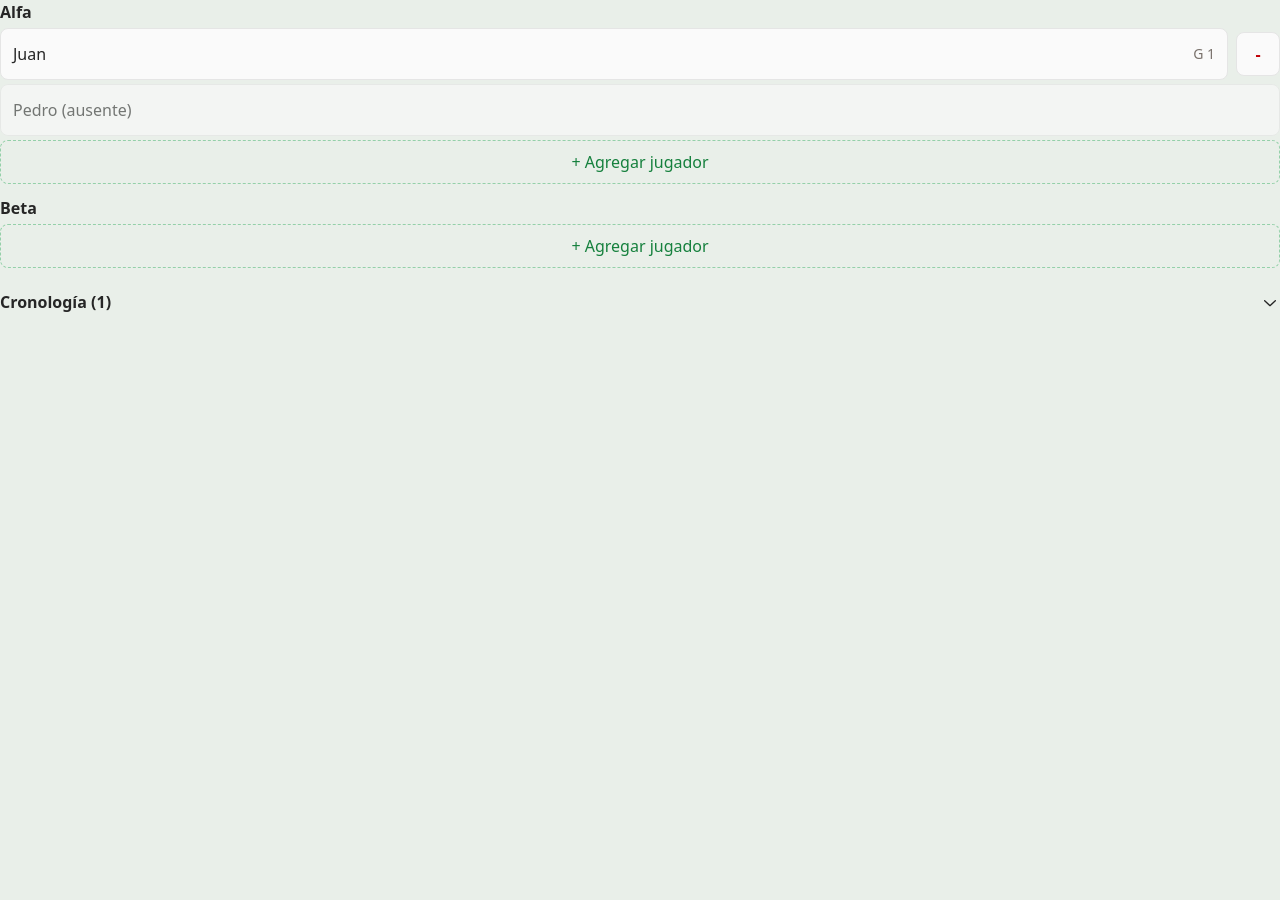
CargaVivo lista unificada › quitar bloqueado si tiene goles
What coordinates should you click on to do the following:
click the text "Juan"
I would click on:
 (30, 54)
Its box is [13, 43, 46, 65].
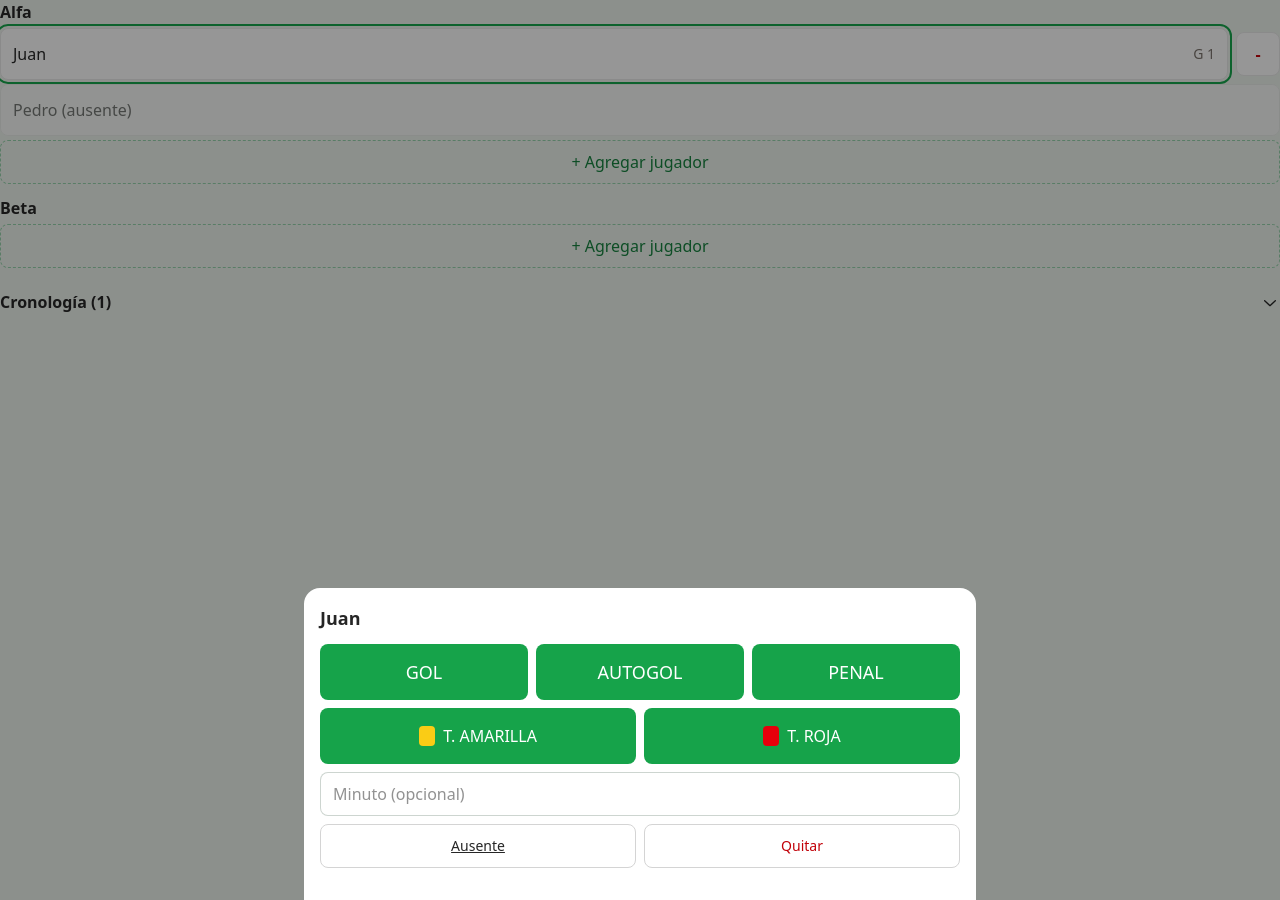
What coordinates should you click on to do the following:
click the button "Quitar"
I would click on:
 (802, 846)
Its box is [644, 824, 960, 868].
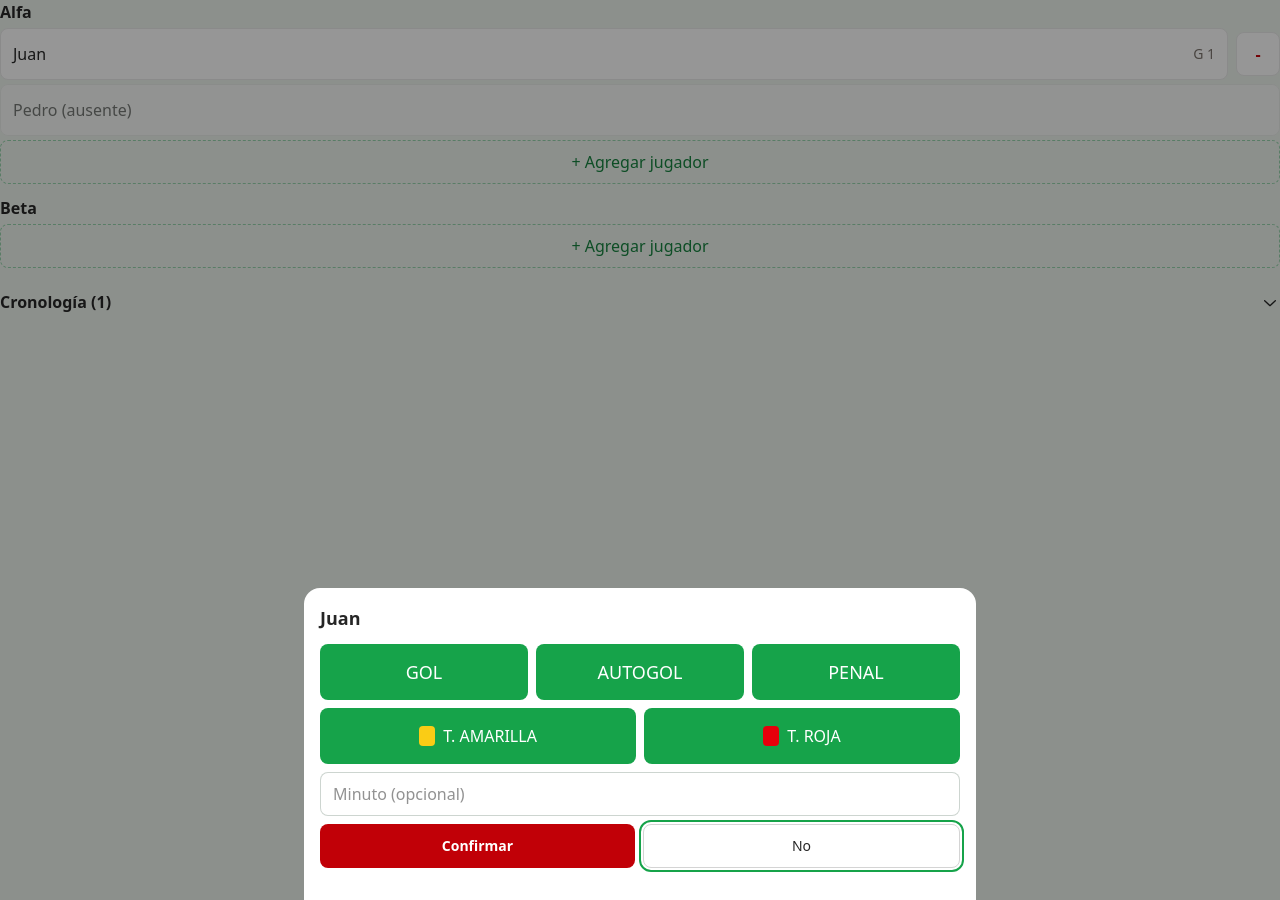
What coordinates should you click on to do the following:
click the button "Confirmar"
I would click on:
 (478, 846)
Its box is [320, 824, 635, 868].
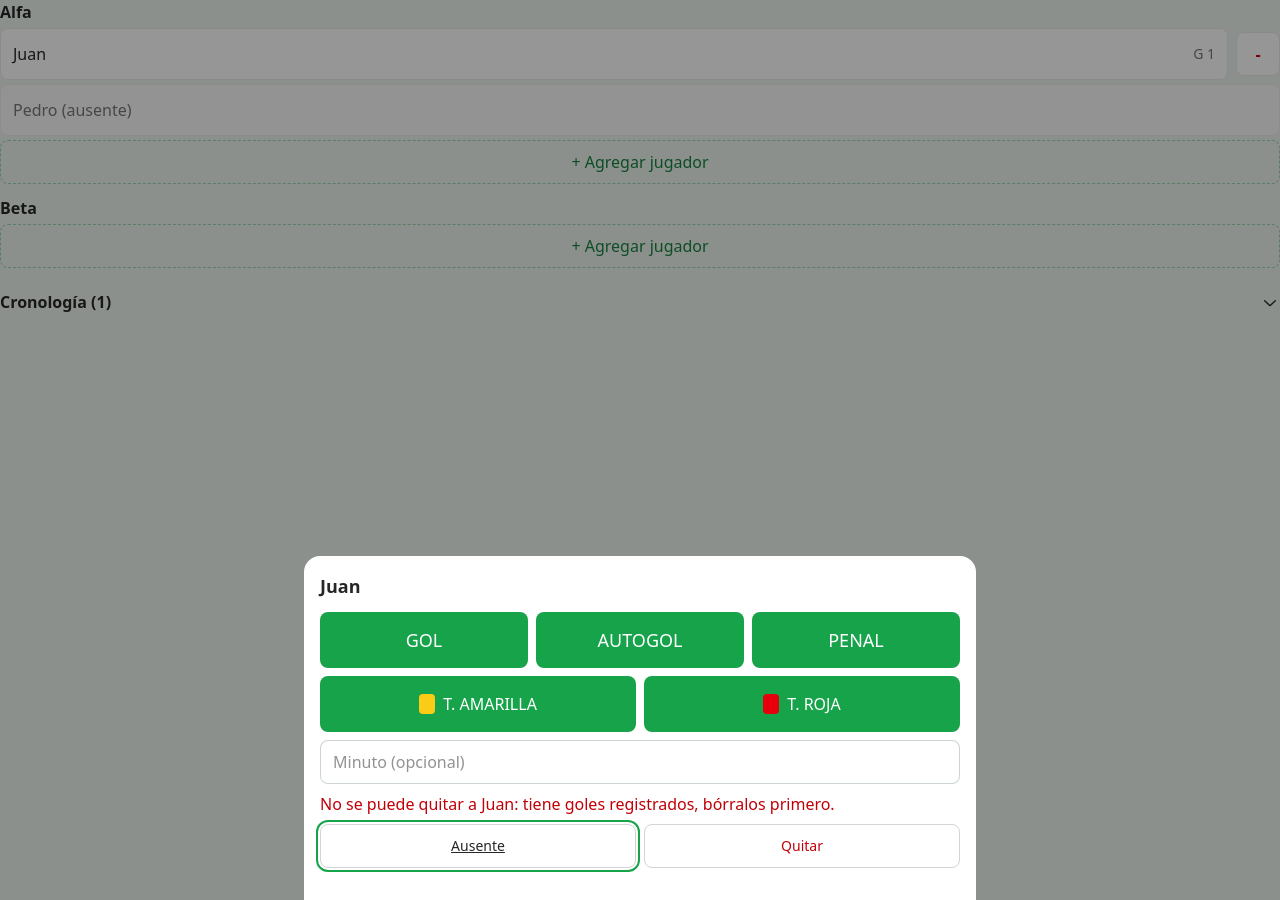
Now the text "tiene goles registrados" is shown, box [320, 793, 835, 815]
